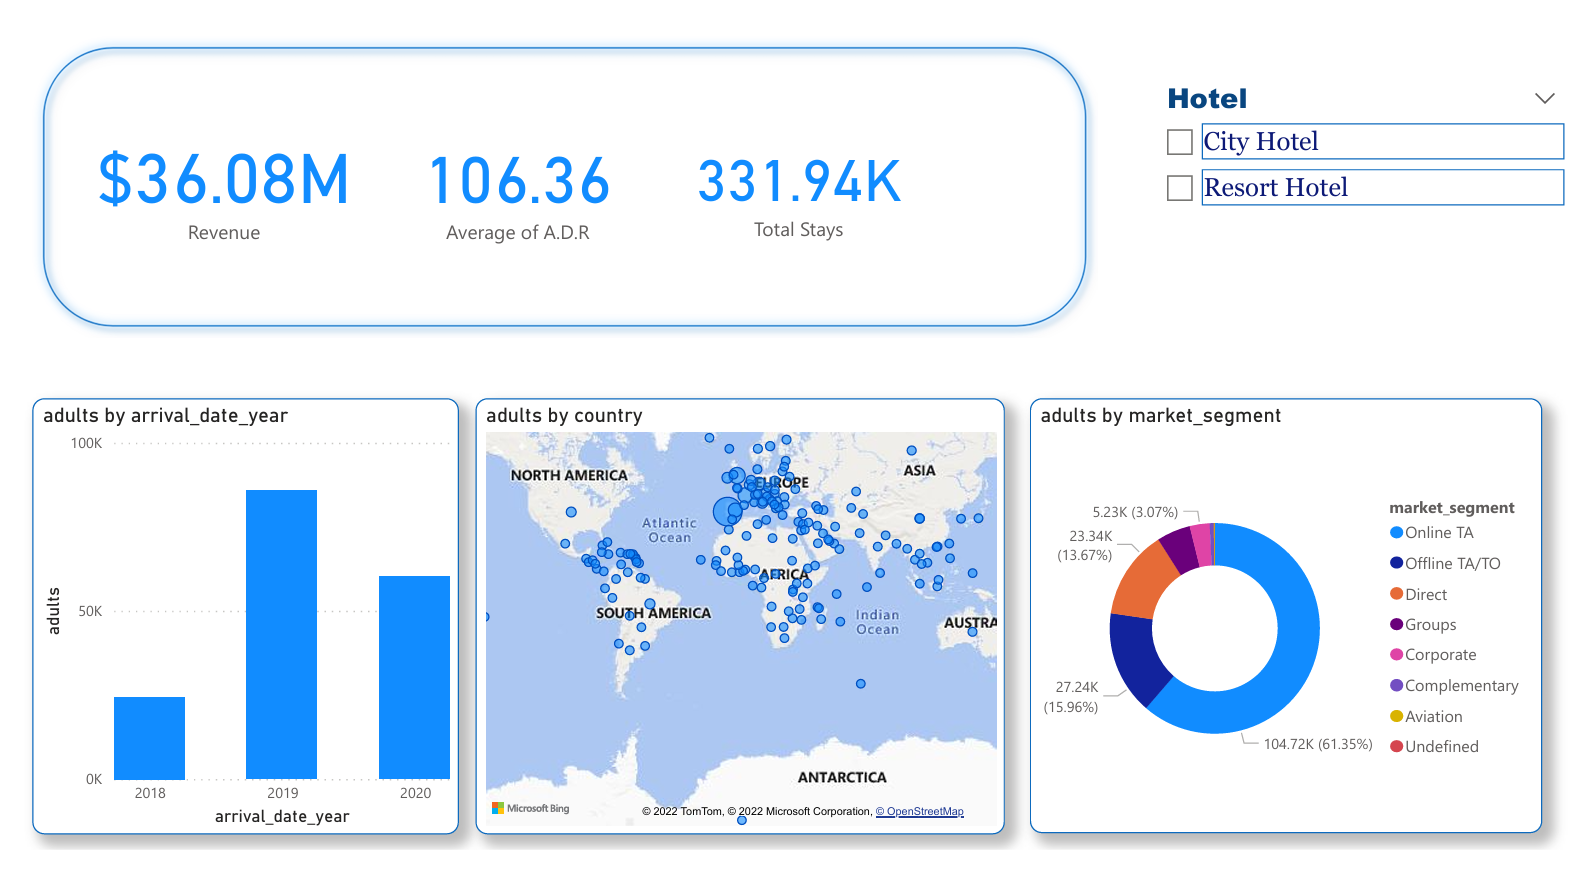

What the dashboard file says about the page in this screenshot:
{"tool":"powerbi","page":{"name":"Page 1","canvas":[1280,720],"ordinal":0},"visuals":[{"type":"card","fields":{"Values":["Sum(Query1.Revenue)"]},"box":[0,18.5,331.4,299.4],"z":0},{"type":"clusteredColumnChart","fields":{"Y":["Sum(Query1.adults)"],"Category":["Query1.arrival_date_year"]},"box":[6.9,346.1,353,361.2],"z":1000},{"type":"map","fields":{"Category":["Query1.country"],"Size":["Sum(Query1.adults)"]},"box":[373.6,346.1,438.1,361.2],"z":2000},{"type":"donutChart","fields":{"Category":["Query1.market_segment"],"Y":["Sum(Query1.adults)"]},"box":[832.3,346.1,424.4,359.8],"z":3000},{"type":"card","fields":{"Values":["Avg(Query1.adr)"]},"box":[280.9,28.6,254,280.9],"z":4000},{"type":"card","fields":{"Values":["Query1.Total Stays"]},"box":[492.9,30.3,296.1,280.9],"z":5000},{"type":"shape","box":[6.7,47.1,881.5,249],"z":5001},{"type":"slicer","fields":{"Values":["Query1.hotel"]},"box":[932.5,75.5,347.5,219.7],"z":5003}]}

Visuals, with their boxes in screenshot pixels (x1, y1, x2, y2), scaled from the page's 1280x720 canvas onto the 1595x873 screenshot:
card - Sum(Query1.Revenue): <region>0, 22, 413, 385</region>
clusteredColumnChart - Sum(Query1.adults) x Query1.arrival_date_year: <region>9, 420, 448, 858</region>
map - Query1.country x Sum(Query1.adults): <region>466, 420, 1011, 858</region>
donutChart - Query1.market_segment x Sum(Query1.adults): <region>1037, 420, 1566, 856</region>
card - Avg(Query1.adr): <region>350, 35, 667, 375</region>
card - Query1.Total Stays: <region>614, 37, 983, 377</region>
shape: <region>8, 57, 1107, 359</region>
slicer - Query1.hotel: <region>1162, 92, 1594, 358</region>
